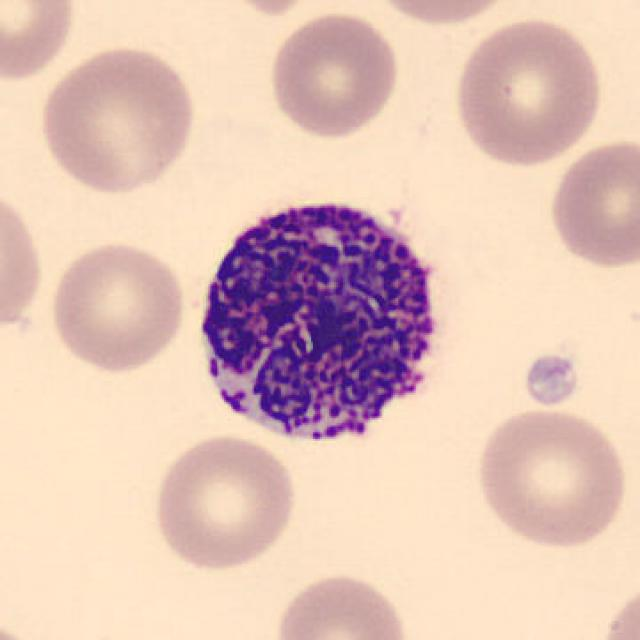Basophil: (181, 182, 464, 467)
Platelets: (519, 349, 581, 409)
RBC: (34, 41, 199, 198), (448, 12, 608, 170), (469, 402, 631, 552), (148, 430, 302, 575), (44, 238, 190, 376), (265, 9, 403, 141), (544, 134, 638, 272), (268, 567, 414, 640), (0, 180, 46, 340), (0, 0, 80, 85), (364, 0, 521, 28), (595, 576, 638, 640), (208, 0, 329, 18), (0, 615, 50, 640)
